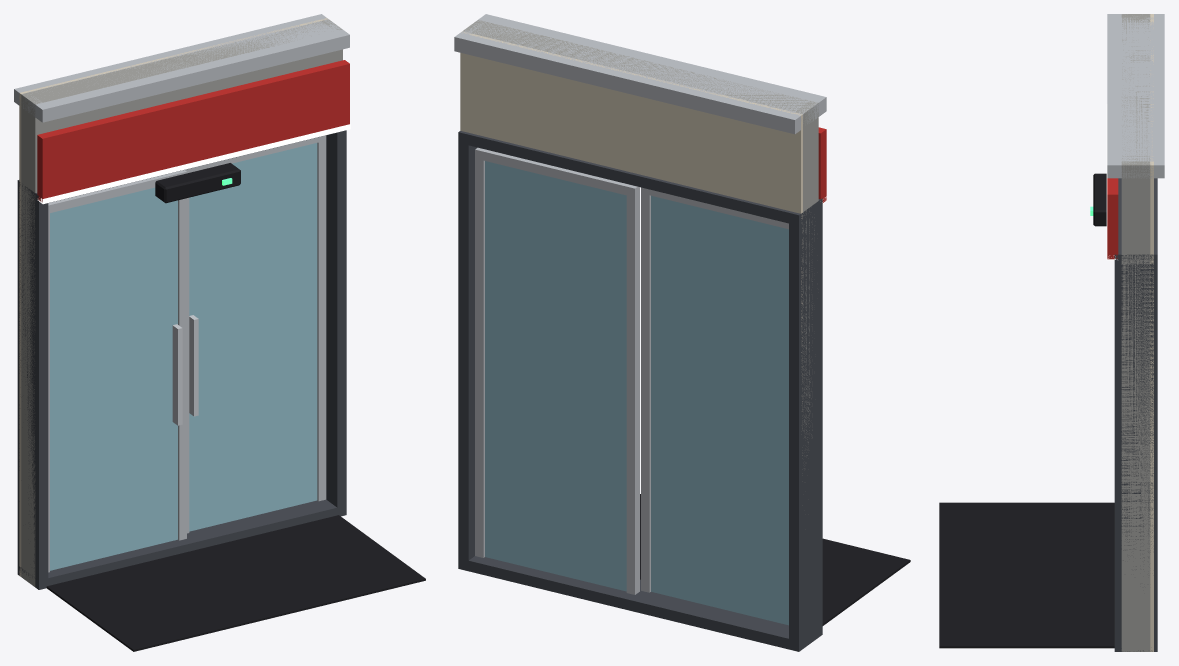
The model's file is Store24_Wall_Door_Auto.glb.
3 views of the same model, side by side, from view 1: azimuth 30°, elevation 25°; view 2: azimuth 150°, elevation 25°; view 3: azimuth 270°, elevation 25° (orthographic). The views are drawn at different scales.
Visible parts, largest first — view 1: Store24_Wall_Door_Auto, Store24_Wall_Door_Auto_Leaf_L, Store24_Wall_Door_Auto_Leaf_R; view 2: Store24_Wall_Door_Auto, Store24_Wall_Door_Auto_Leaf_R, Store24_Wall_Door_Auto_Leaf_L; view 3: Store24_Wall_Door_Auto.
Boxes of the visible parts, left/top/right/bottom form: Store24_Wall_Door_Auto: left=14, top=14, right=425, bottom=651; Store24_Wall_Door_Auto_Leaf_L: left=48, top=170, right=186, bottom=572; Store24_Wall_Door_Auto_Leaf_R: left=185, top=135, right=326, bottom=533; Store24_Wall_Door_Auto: left=454, top=14, right=910, bottom=651; Store24_Wall_Door_Auto_Leaf_R: left=475, top=147, right=639, bottom=594; Store24_Wall_Door_Auto_Leaf_L: left=641, top=187, right=788, bottom=625; Store24_Wall_Door_Auto: left=939, top=14, right=1164, bottom=651.
Bounding box in the file's own units: 2 × 3 × 1.26.
Materials: 1 (1 with a texture image).
